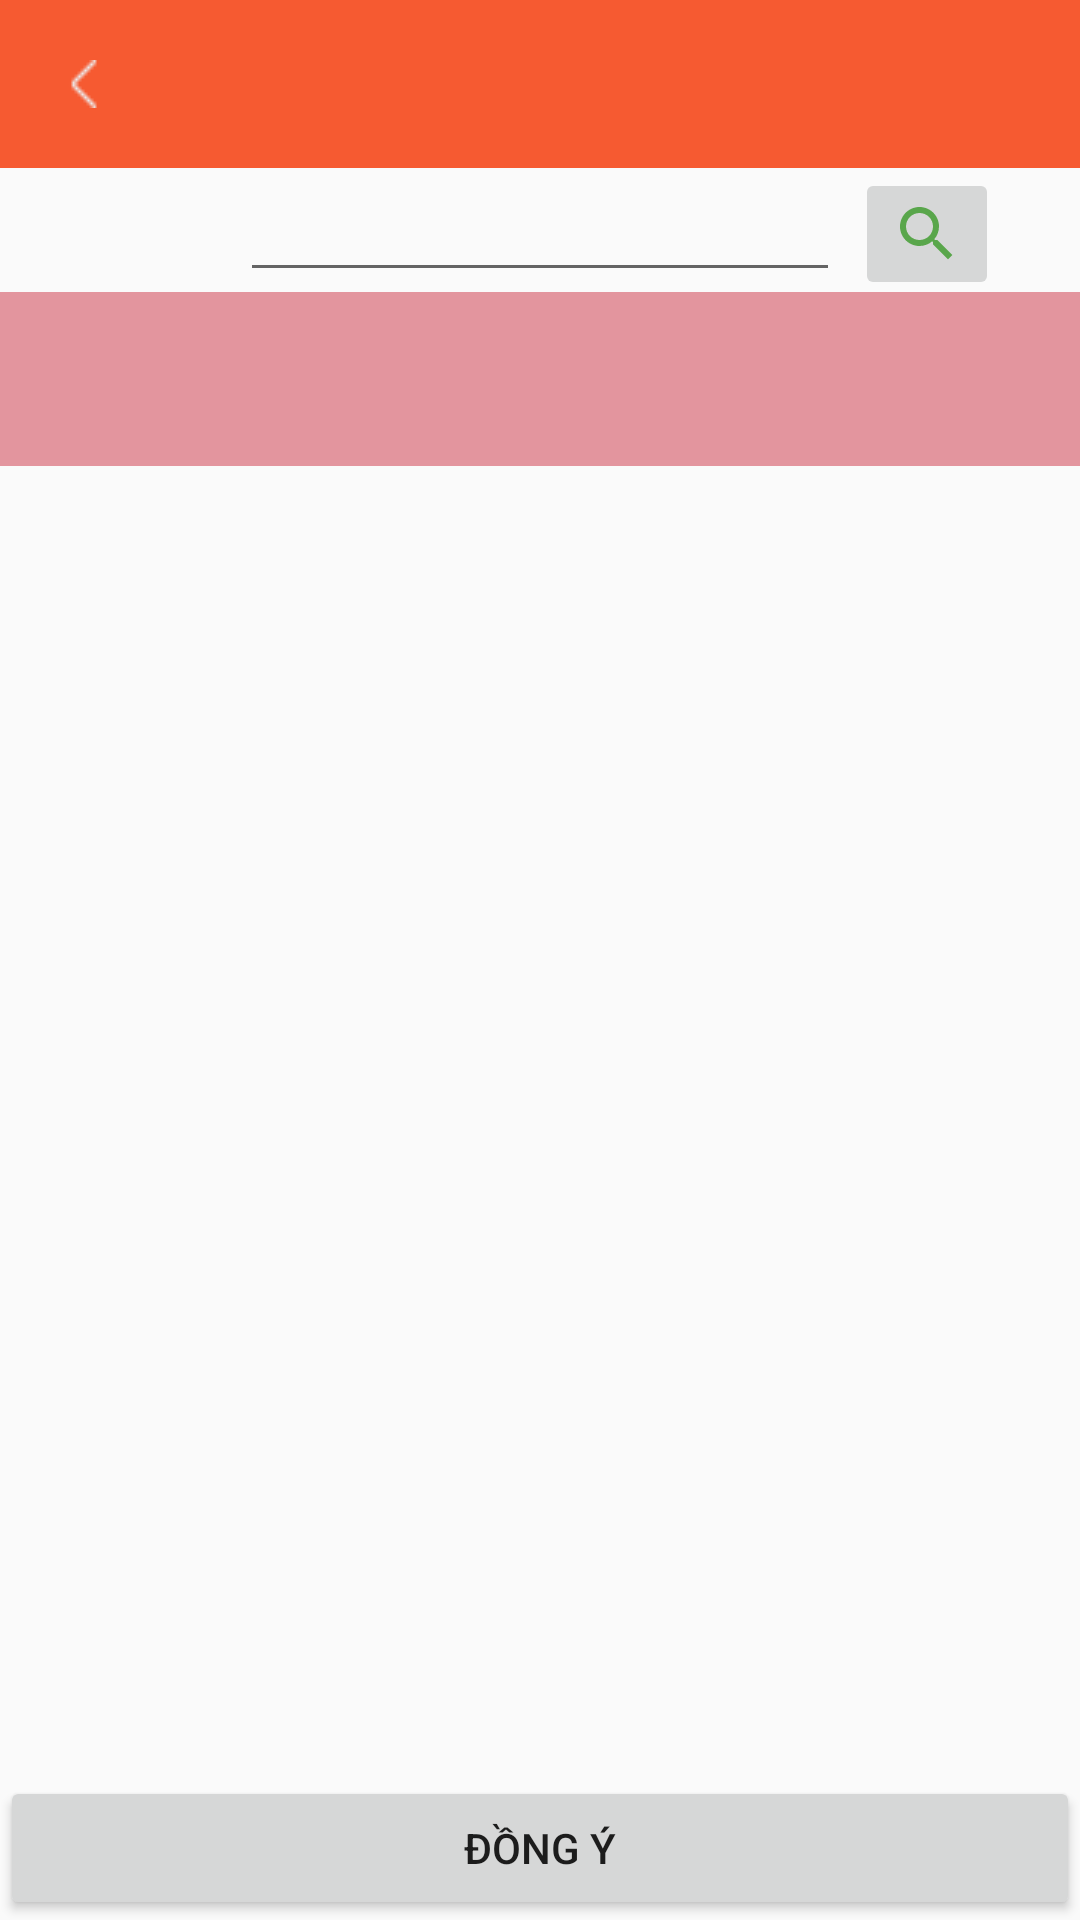

Named icons in this screenshot (1080px×1920px) and their centers, [x,y]:
search: [927,234]
